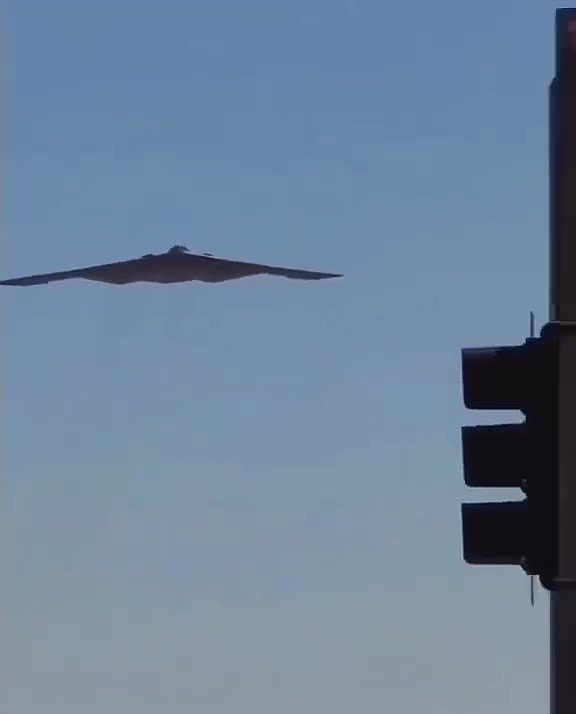B2: (1, 244, 345, 287)
